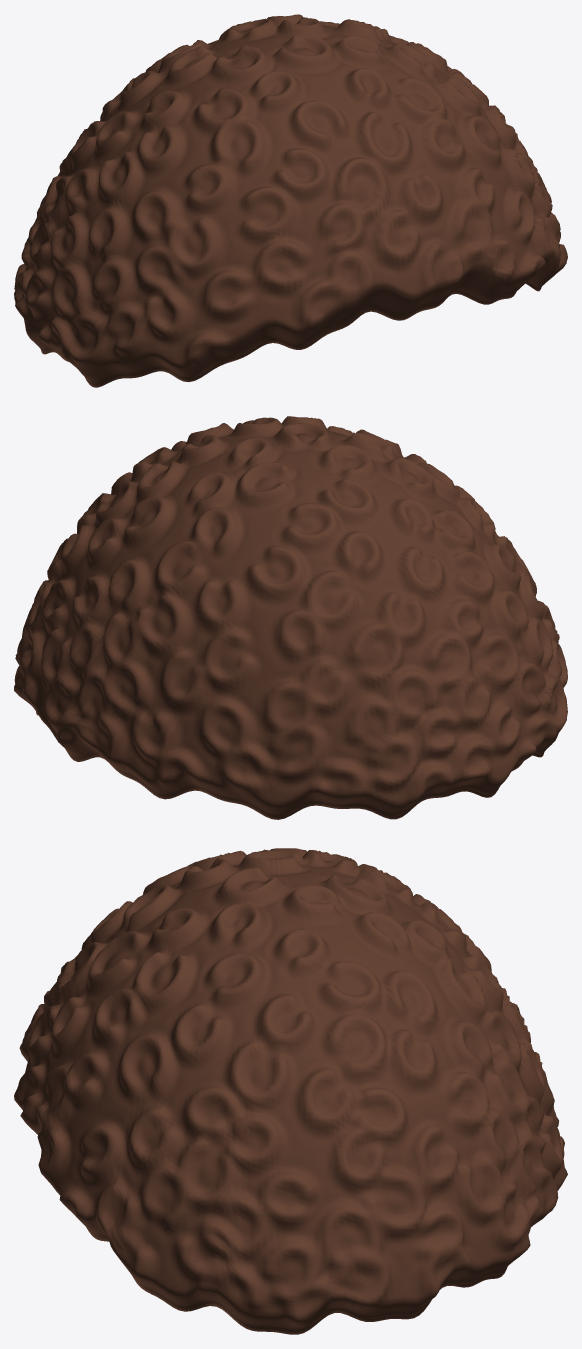
Rendered from Masculine-afro-hair251.glb.
3 views of the same model, one above another, from view 1: azimuth 30°, elevation 25°; view 2: azimuth 150°, elevation 25°; view 3: azimuth 270°, elevation 25° (orthographic). The views are drawn at different scales.
Parts seen in each view (by area): view 1: 226 hair / Hair / sculpted afro251; view 2: 226 hair / Hair / sculpted afro251; view 3: 226 hair / Hair / sculpted afro251.
Boxes of the visible parts, x1,y1,x2,y2 form: 226 hair / Hair / sculpted afro251: (14, 14, 567, 387); 226 hair / Hair / sculpted afro251: (14, 416, 567, 819); 226 hair / Hair / sculpted afro251: (14, 848, 567, 1334).
Size of the model in its own units: 1.01 by 0.5528 by 0.8348.
